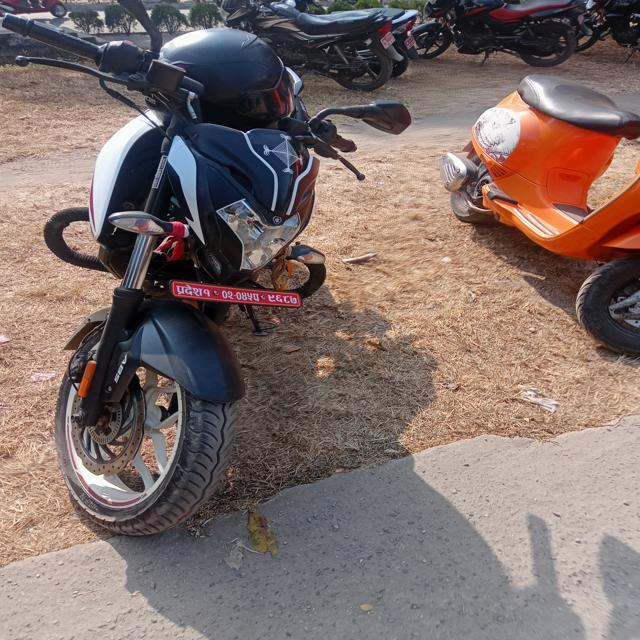license_plate: (148, 268, 312, 316)
